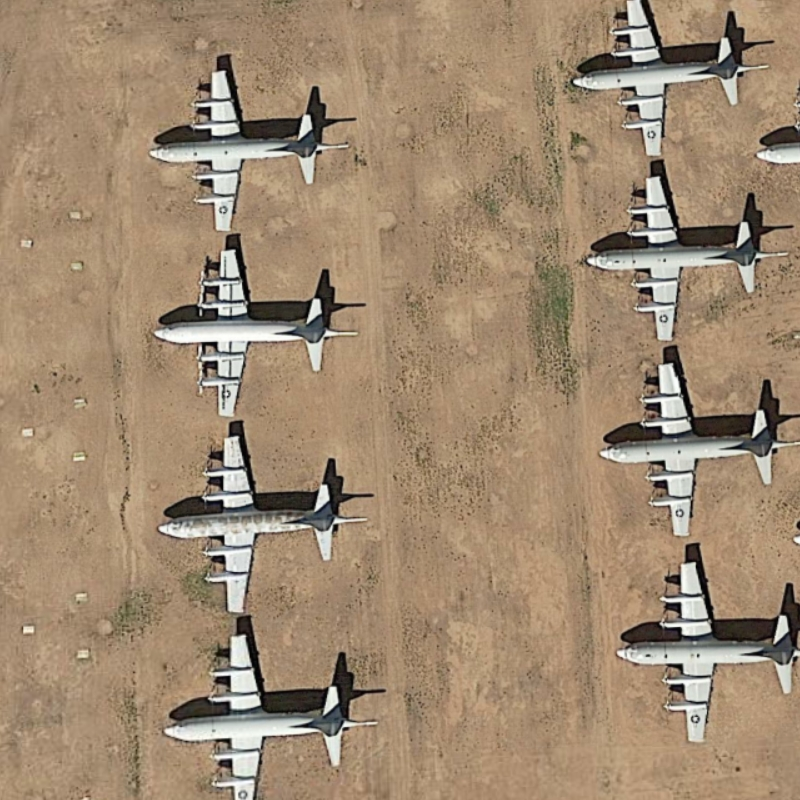A9: (143, 427, 377, 616), (155, 624, 381, 800), (592, 345, 800, 536), (571, 168, 793, 346), (151, 241, 365, 423), (138, 55, 354, 234), (610, 555, 800, 752), (561, 2, 776, 159)
